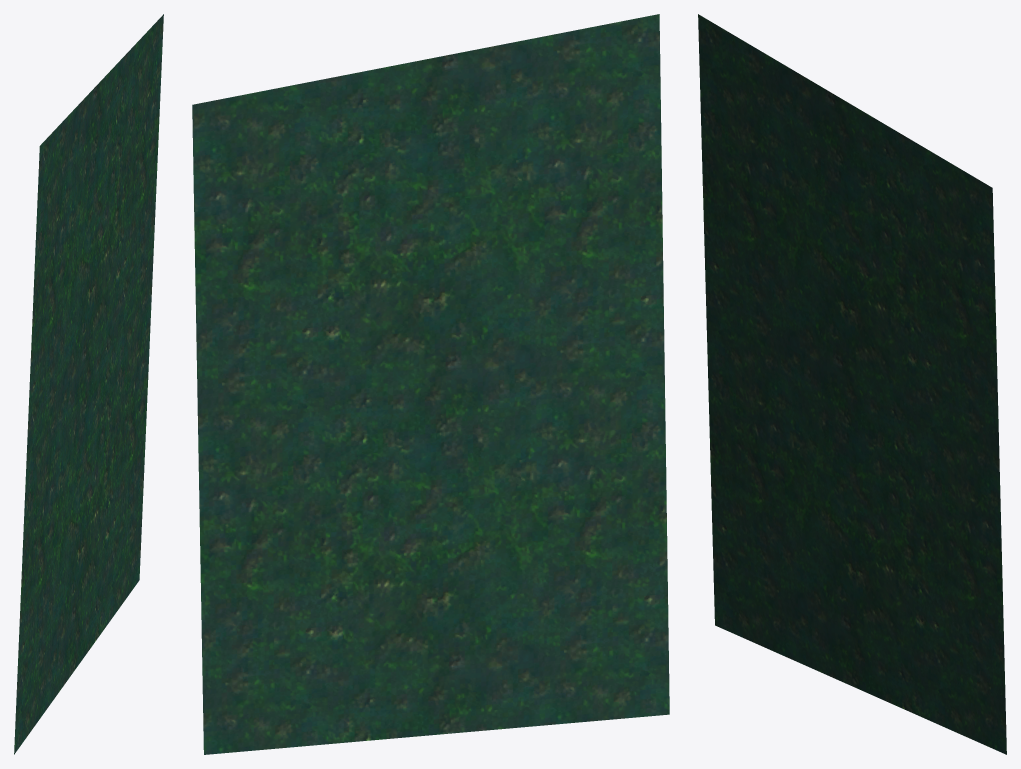
The model's file is MIRKWOOD_MIRK_PLAYSURFACE52.fbx.
3 views of the same model, side by side, from view 1: azimuth 30°, elevation 25°; view 2: azimuth 150°, elevation 25°; view 3: azimuth 270°, elevation 25° (orthographic). The views are drawn at different scales.
Visible parts, largest first — view 1: MIRKWOOD_MIRK_PLAYSURFACE52; view 2: MIRKWOOD_MIRK_PLAYSURFACE52; view 3: MIRKWOOD_MIRK_PLAYSURFACE52.
Part boxes in pixels (<box>): MIRKWOOD_MIRK_PLAYSURFACE52: <box>14,14,163,754</box>; MIRKWOOD_MIRK_PLAYSURFACE52: <box>192,14,669,754</box>; MIRKWOOD_MIRK_PLAYSURFACE52: <box>698,14,1006,754</box>.
Size of the model in its own units: 18627 by 37935 by 17126.
Materials: 1 (1 with a texture image).
